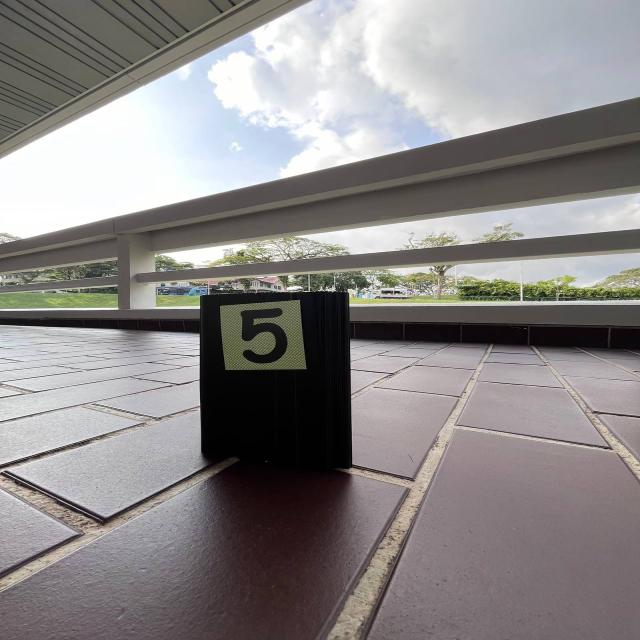five_id15: (221, 299, 307, 371)
